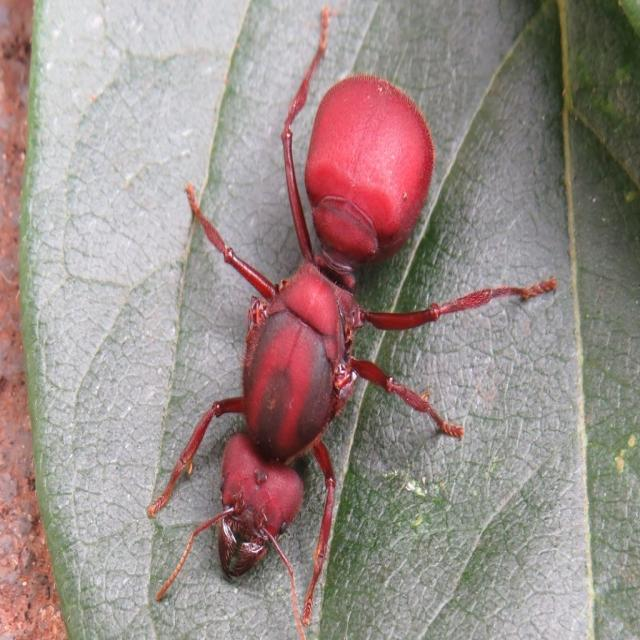Alive-Female-Dealate: (145, 4, 557, 640)
